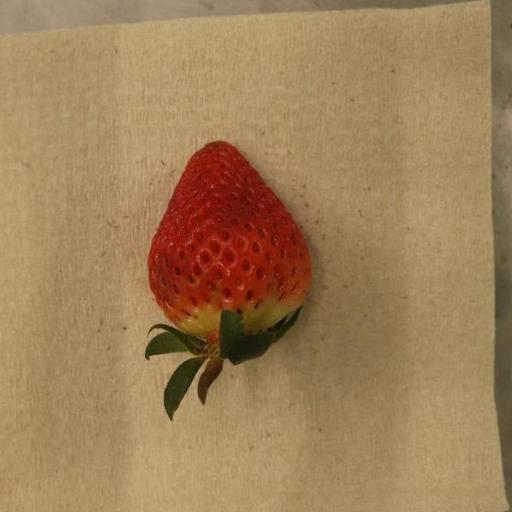Strawberry: (145, 141, 312, 422)
